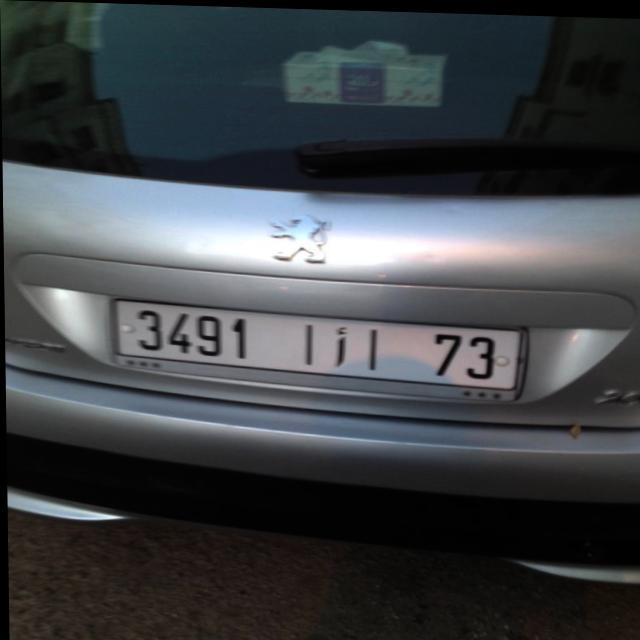License-Plate: (115, 299, 522, 395)
